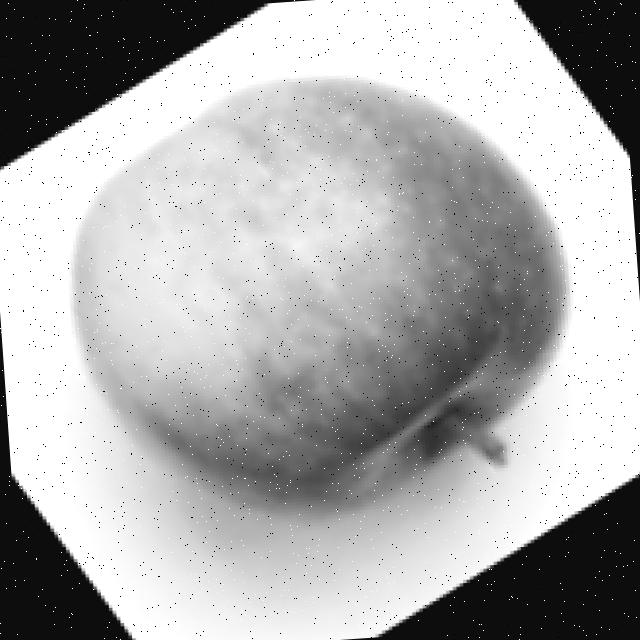Ripe: (50, 47, 593, 544)
